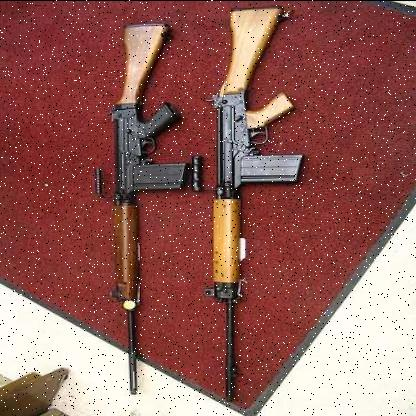rifle: (91, 16, 201, 408), (203, 1, 303, 408)
